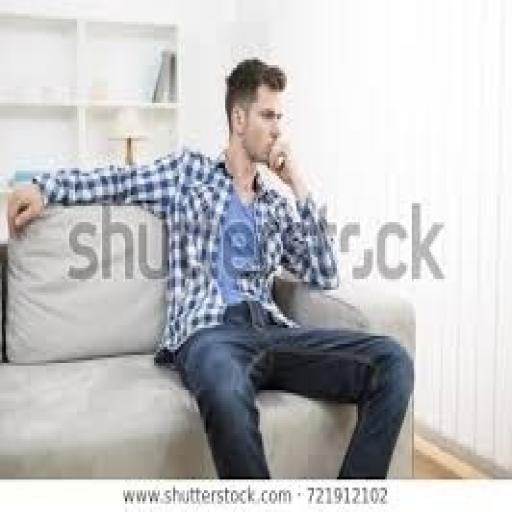sitting: (4, 54, 416, 480)
